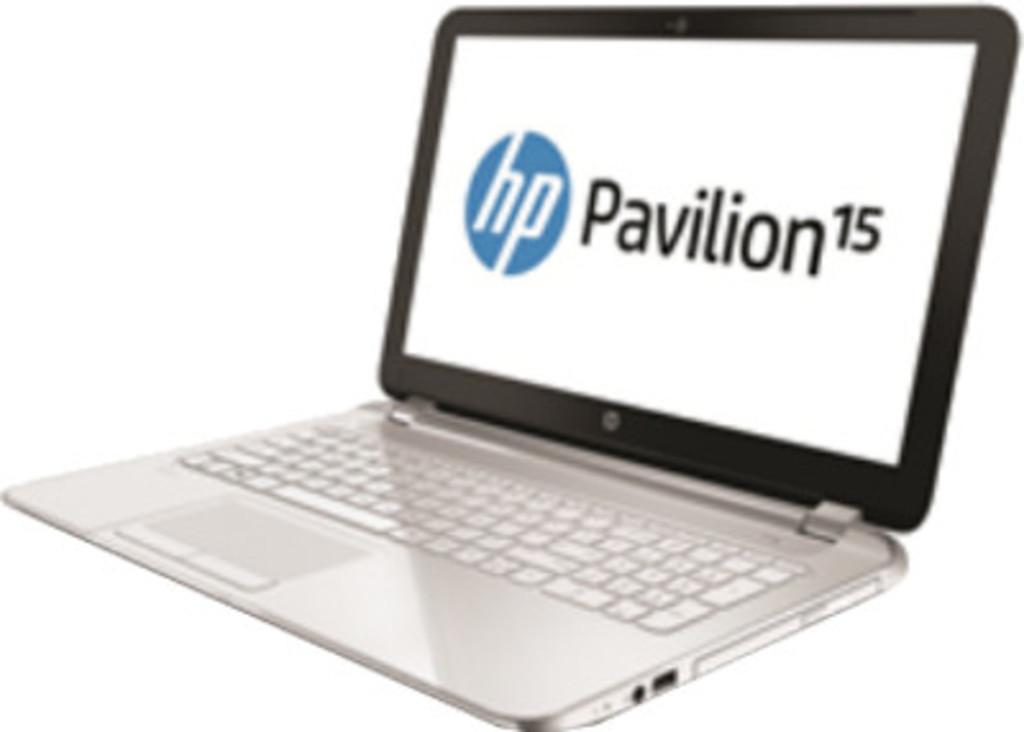Laptop: (23, 3, 1009, 732)
